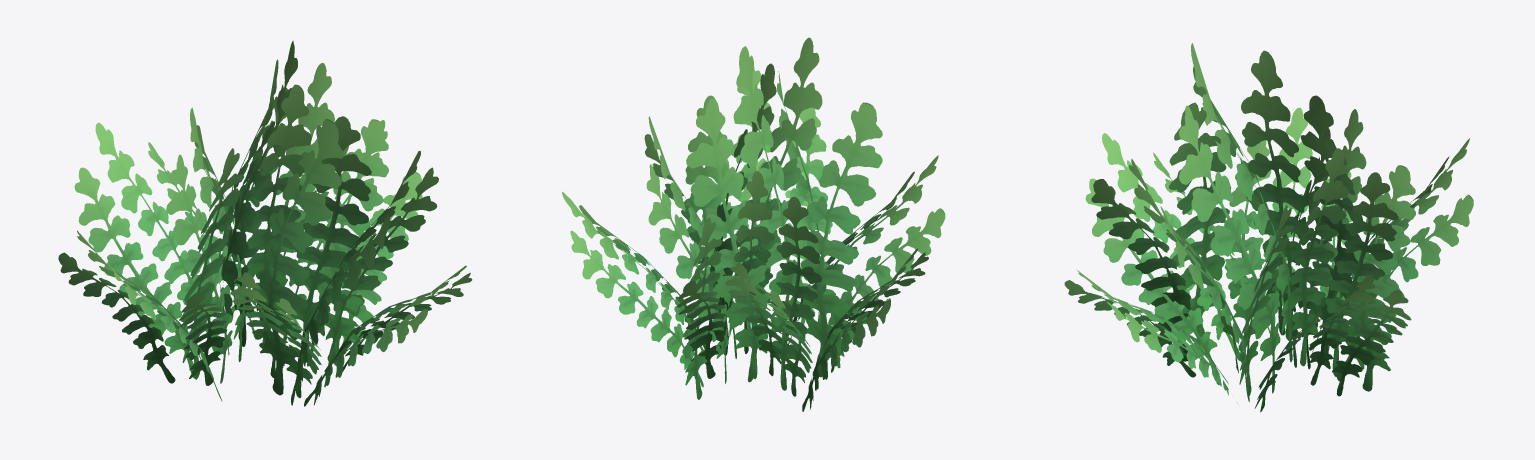
The model's file is SM_ENV_plant_ancient_01_02.fbx.
3 views of the same model, side by side, from view 1: azimuth 30°, elevation 25°; view 2: azimuth 150°, elevation 25°; view 3: azimuth 270°, elevation 25° (orthographic). The views are drawn at different scales.
Visible parts, largest first — view 1: SM_ENV_plant_ancient_01_02_LOD0; view 2: SM_ENV_plant_ancient_01_02_LOD0; view 3: SM_ENV_plant_ancient_01_02_LOD0.
Part boxes in pixels (x1,y1,x2,y2): SM_ENV_plant_ancient_01_02_LOD0: (58,41,472,406); SM_ENV_plant_ancient_01_02_LOD0: (562,37,945,411); SM_ENV_plant_ancient_01_02_LOD0: (1064,43,1473,412).
Size of the model in its own units: 91.49 by 78.02 by 93.1.
